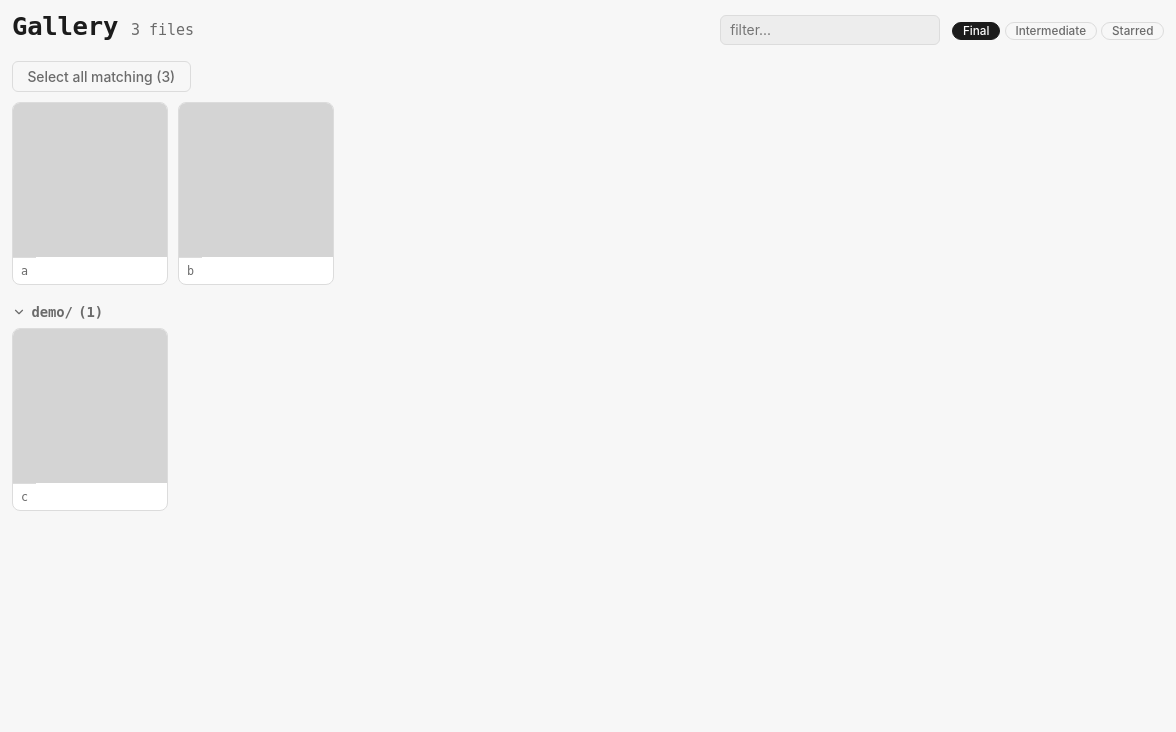
Test: counts the files ticked in the grid
Click the checkbox named "select a.png" at (90, 193), box [12,102,168,285]
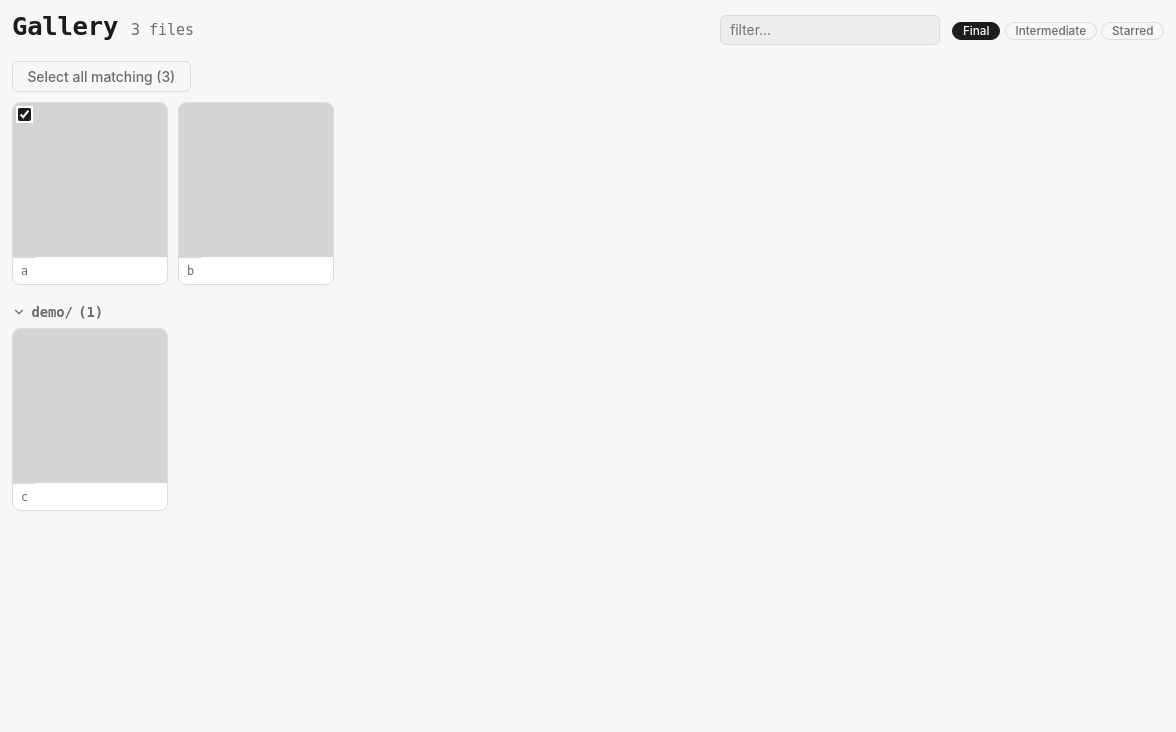
Click the 3rd checkbox labelled "c" at (90, 420), box [12,328,168,512]
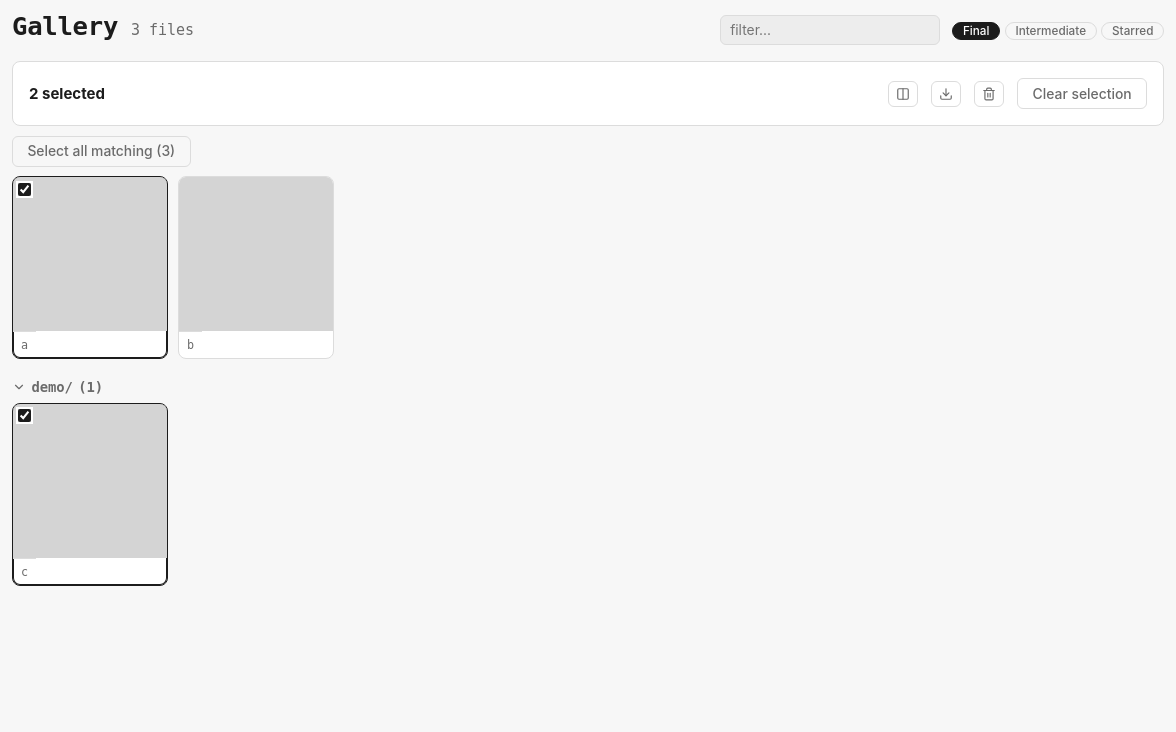
expect the text "2 selected" is shown: met, box [29,82,105,106]
